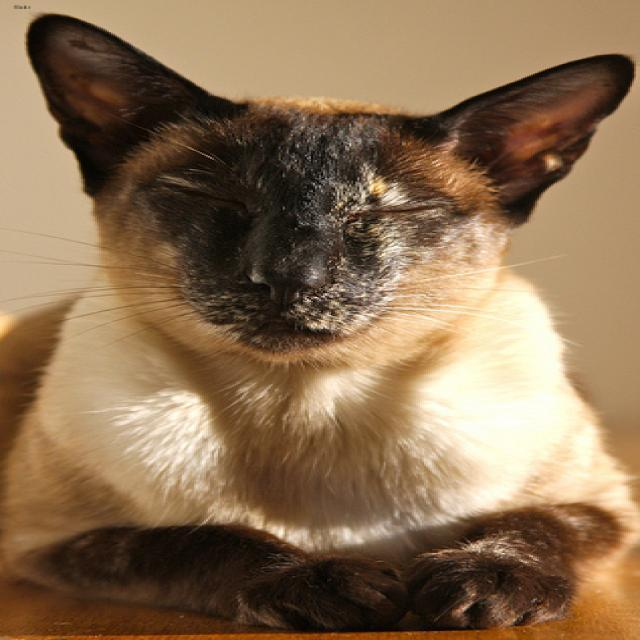Siamese: (22, 13, 632, 349)
